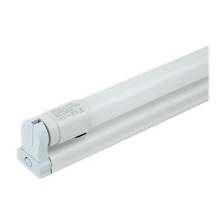light_bulb: (23, 37, 224, 151)
